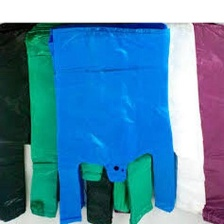plastic_bag: (20, 21, 158, 224), (49, 20, 179, 223), (0, 19, 124, 224), (190, 18, 224, 224)
